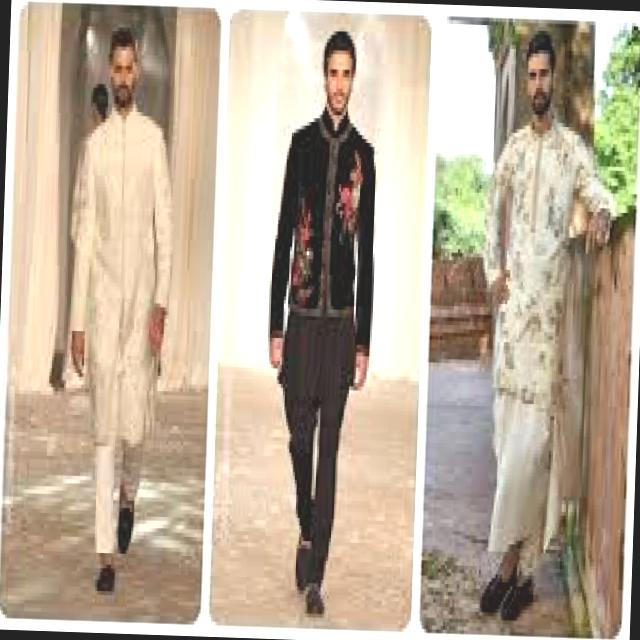face: (325, 51, 354, 119), (528, 54, 553, 118), (112, 47, 138, 108)
foot-wear: (481, 567, 517, 616), (501, 576, 534, 620), (117, 501, 134, 553), (296, 538, 311, 594), (305, 583, 324, 614), (96, 565, 115, 591)
lower-wear: (279, 312, 355, 583), (489, 392, 557, 575), (95, 443, 116, 552)
top-wear: (264, 118, 378, 350)
